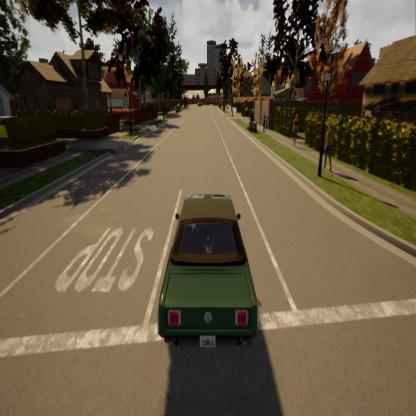Cars: (154, 163, 265, 365)
Pedestrian: (319, 121, 342, 186), (288, 109, 303, 152), (259, 106, 270, 137)
